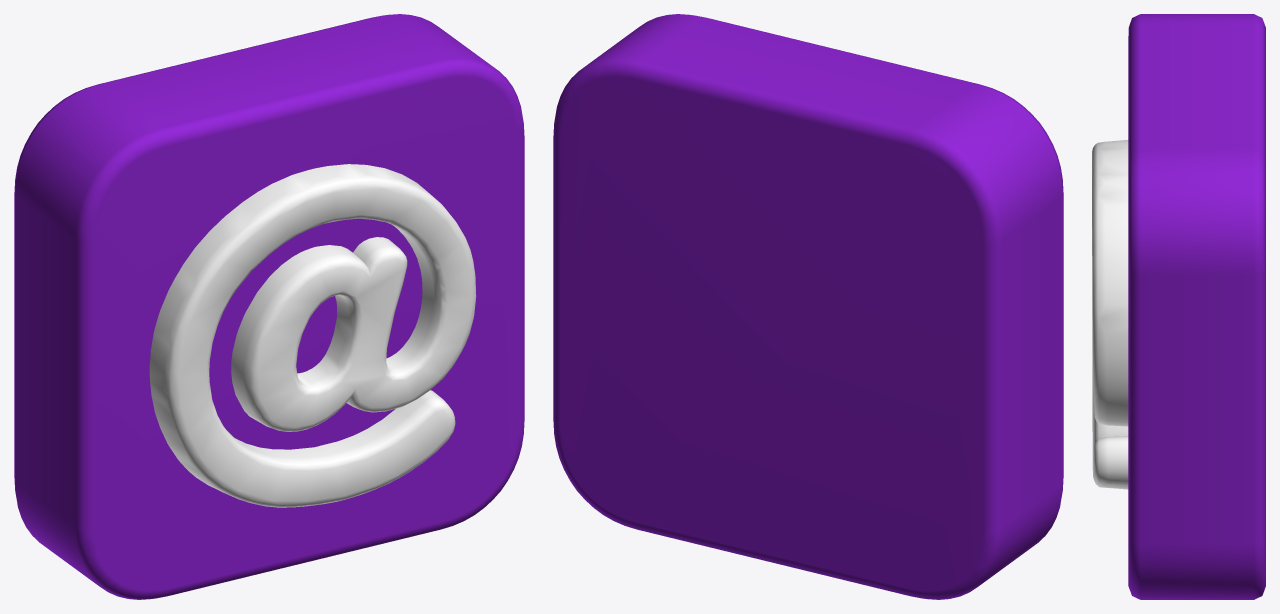
The model's file is social_email.glb.
3 views of the same model, side by side, from view 1: azimuth 30°, elevation 25°; view 2: azimuth 150°, elevation 25°; view 3: azimuth 270°, elevation 25° (orthographic). The views are drawn at different scales.
Parts seen in each view (by area): view 1: at_badge, at_sign; view 2: at_badge; view 3: at_badge, at_sign.
Part boxes in pixels (left/top/right/bottom): at_badge: left=14, top=14, right=524, bottom=599; at_sign: left=149, top=164, right=476, bottom=507; at_badge: left=553, top=14, right=1063, bottom=599; at_badge: left=1128, top=14, right=1265, bottom=599; at_sign: left=1092, top=140, right=1128, bottom=489.
Bounding box in the file's own units: 0.9995 × 0.9995 × 0.3577.
